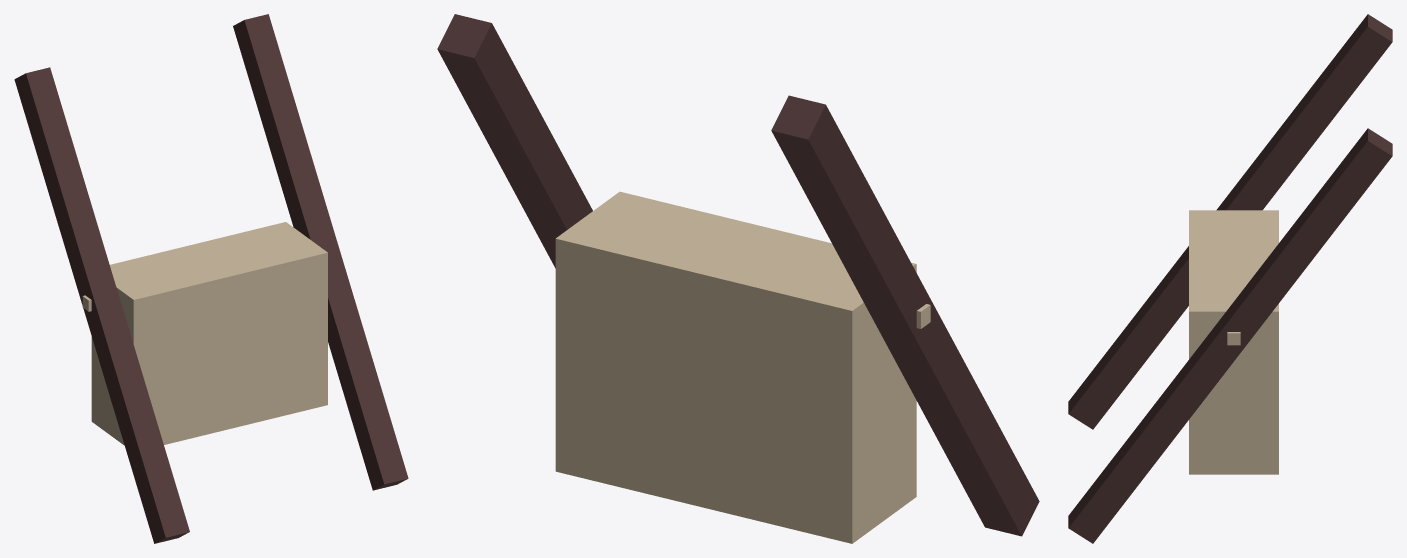
Rendered from DarkWoodMechMediumPivotingBeams1.fbx.
3 renders of one model, left to right at view 1: azimuth 30°, elevation 25°; view 2: azimuth 150°, elevation 25°; view 3: azimuth 270°, elevation 25°, orthographic. The views are drawn at different scales.
Parts seen in each view (by area): view 1: StonePivot, Wooden_Beam__2_, Wooden_Beam__1_; view 2: StonePivot, Wooden_Beam__2_, Wooden_Beam__1_; view 3: StonePivot, Wooden_Beam__1_, Wooden_Beam__2_.
Boxes of the visible parts, x1=… form: StonePivot: x1=82, y1=222, x2=327, y2=445; Wooden_Beam__2_: x1=14, y1=67, x2=189, y2=543; Wooden_Beam__1_: x1=233, y1=14, x2=408, y2=490; StonePivot: x1=555, y1=191, x2=930, y2=543; Wooden_Beam__2_: x1=771, y1=95, x2=1039, y2=536; Wooden_Beam__1_: x1=437, y1=14, x2=592, y2=268; StonePivot: x1=1189, y1=210, x2=1278, y2=474; Wooden_Beam__1_: x1=1068, y1=128, x2=1392, y2=543; Wooden_Beam__2_: x1=1068, y1=14, x2=1392, y2=429.
Bounding box in the file's own units: 511 × 741 × 540.
